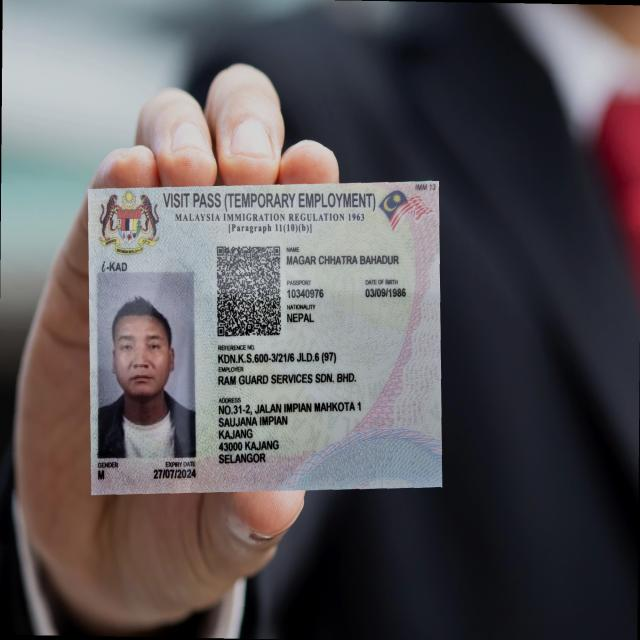ikad-temp: (87, 180, 442, 494)
